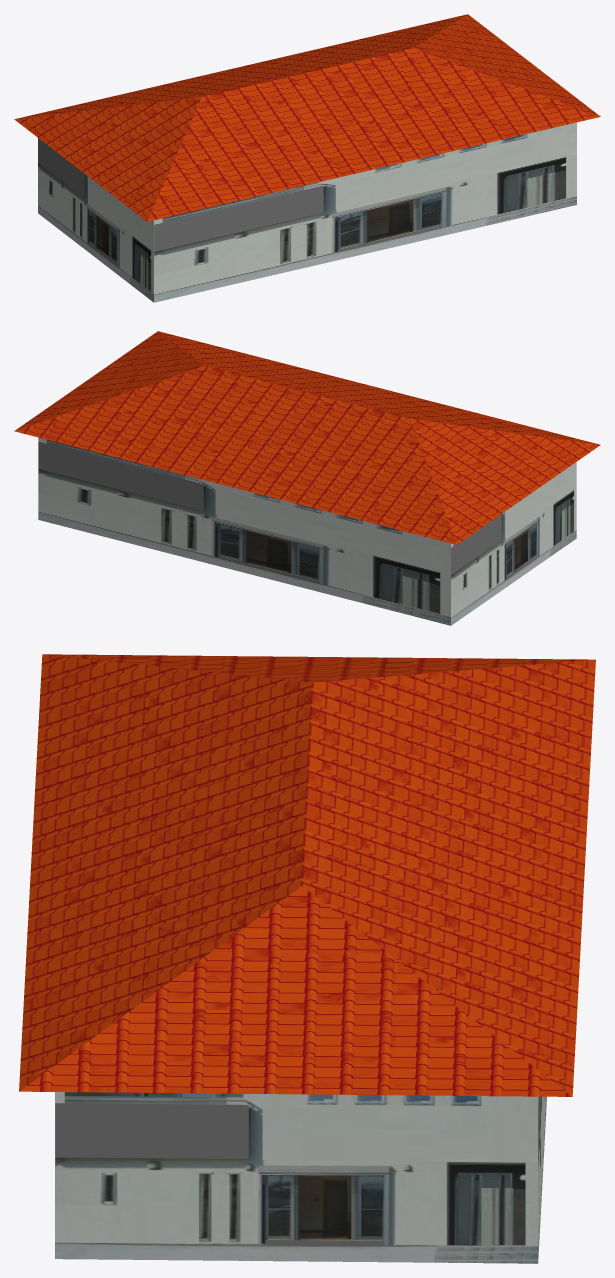
3 views of the same model, one above another, from view 1: azimuth 30°, elevation 25°; view 2: azimuth 150°, elevation 25°; view 3: azimuth 270°, elevation 25° (orthographic). The views are drawn at different scales.
Visible parts, largest first — view 1: CityEngineMaterial_12_m, CityEngineMaterial_11_m; view 2: CityEngineMaterial_12_m, CityEngineMaterial_11_m; view 3: CityEngineMaterial_12_m, CityEngineMaterial_11_m.
Boxes of the visible parts, x1,y1,x2,y2 form: CityEngineMaterial_12_m: (14,14,600,221); CityEngineMaterial_11_m: (38,122,576,302); CityEngineMaterial_12_m: (14,331,600,544); CityEngineMaterial_11_m: (38,437,576,625); CityEngineMaterial_12_m: (19,654,595,1096); CityEngineMaterial_11_m: (55,1092,546,1263).
Bounding box in the file's own units: 27.92 × 8.04 × 15.38.
